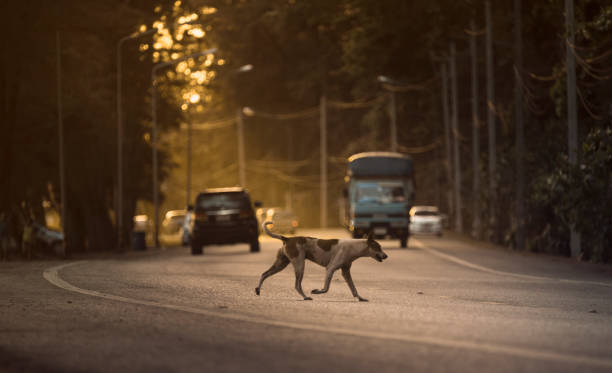kamyon: (337, 147, 429, 247)
kopek: (257, 214, 393, 310)
otomobil: (183, 177, 275, 259)
